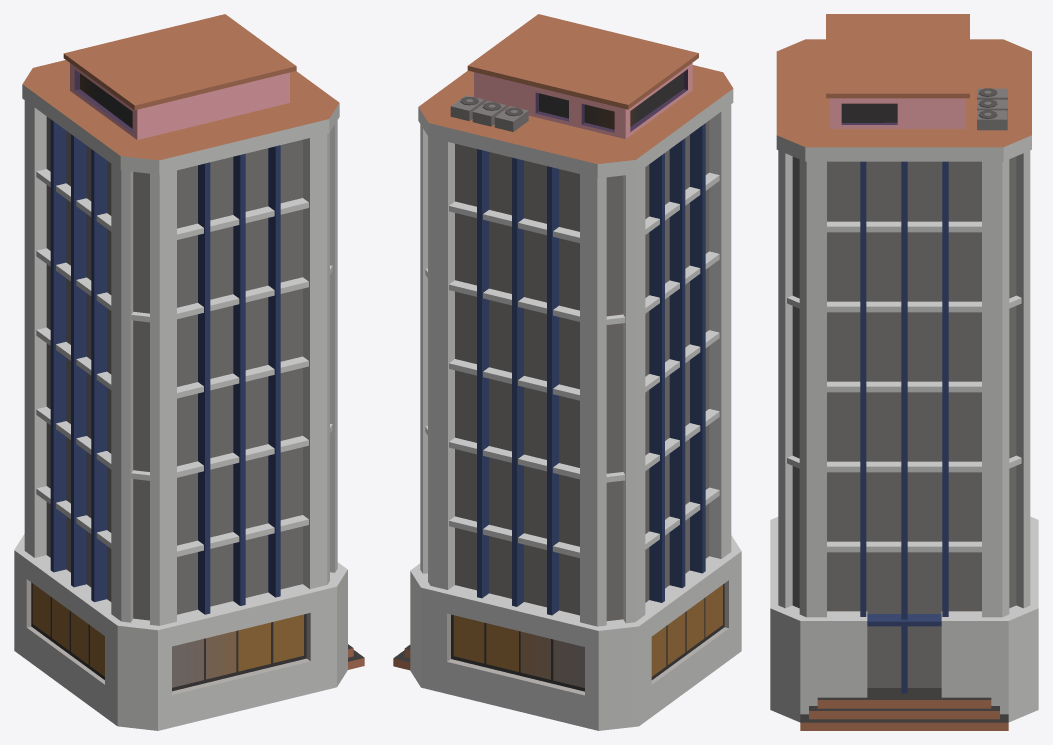
Rendered from building_9.fbx.
The picture shows the model from 3 angles, left to right: view 1: azimuth 30°, elevation 25°; view 2: azimuth 150°, elevation 25°; view 3: azimuth 270°, elevation 25°; orthographic projection.
Visible parts, largest first — view 1: building_9; view 2: building_9; view 3: building_9.
Boxes of the visible parts, x1=… form: building_9: x1=14, y1=14, x2=364, y2=730; building_9: x1=393, y1=14, x2=741, y2=730; building_9: x1=770, y1=14, x2=1038, y2=730.
Bounding box in the file's own units: 1.52 × 3.54 × 1.41.
